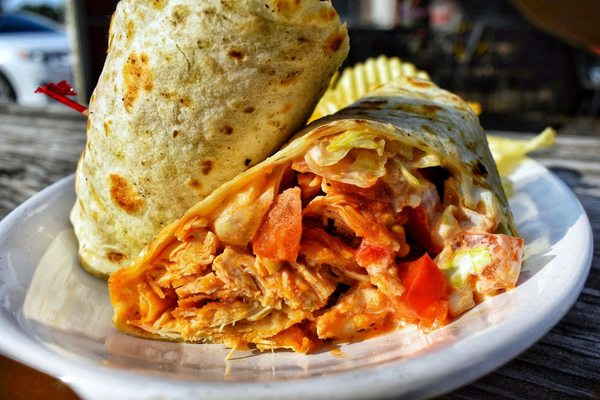soup: (98, 67, 525, 357), (70, 0, 350, 277)
